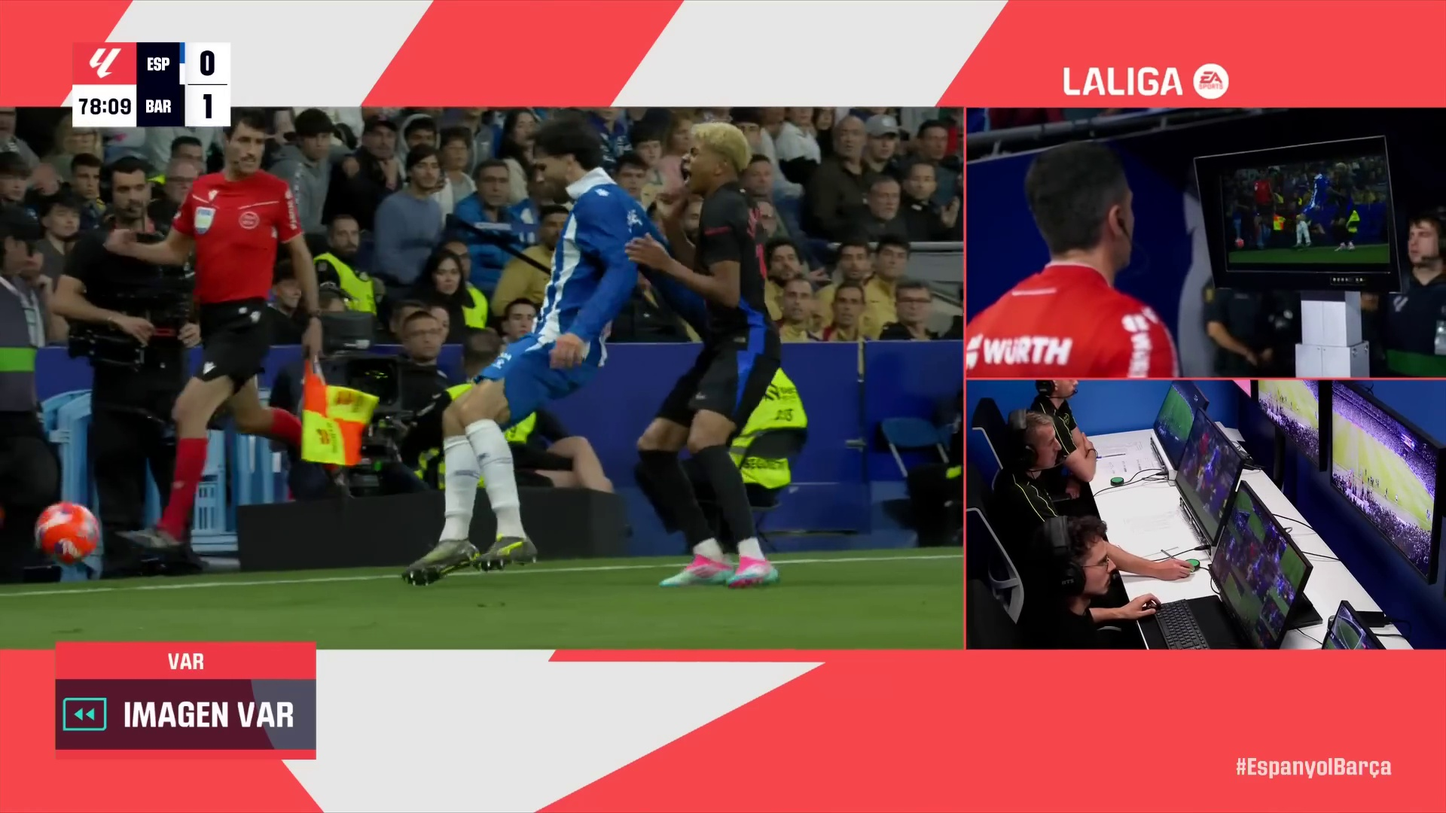ball: (34, 501, 101, 569)
player: (403, 110, 713, 587), (623, 119, 785, 592)
referee: (106, 110, 382, 555), (969, 135, 1182, 380)
